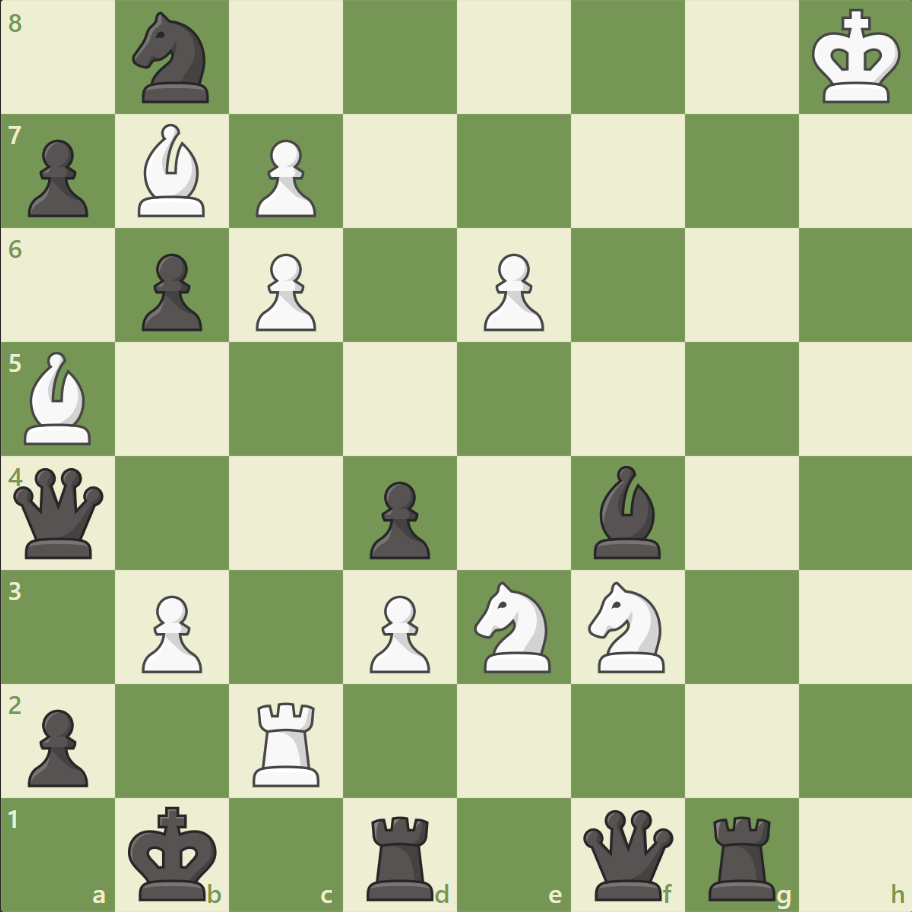B: (131, 120, 215, 222), (17, 347, 101, 449)
K: (806, 4, 906, 112)
N: (465, 575, 562, 677), (579, 575, 676, 677)
P: (247, 132, 322, 223), (247, 246, 322, 337), (474, 246, 549, 337), (133, 586, 208, 677), (361, 586, 435, 677)
R: (246, 693, 329, 790)
b: (585, 460, 669, 563)
k: (124, 798, 224, 906)
n: (124, 7, 222, 110)
p: (20, 132, 95, 223), (133, 246, 208, 337), (20, 700, 95, 791), (361, 473, 435, 564)
q: (10, 463, 109, 562), (578, 804, 677, 903)
r: (700, 806, 783, 904), (360, 806, 442, 904)
